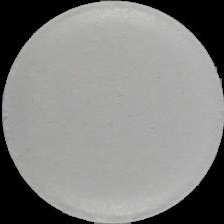0574-0240: (0, 0, 224, 224)
